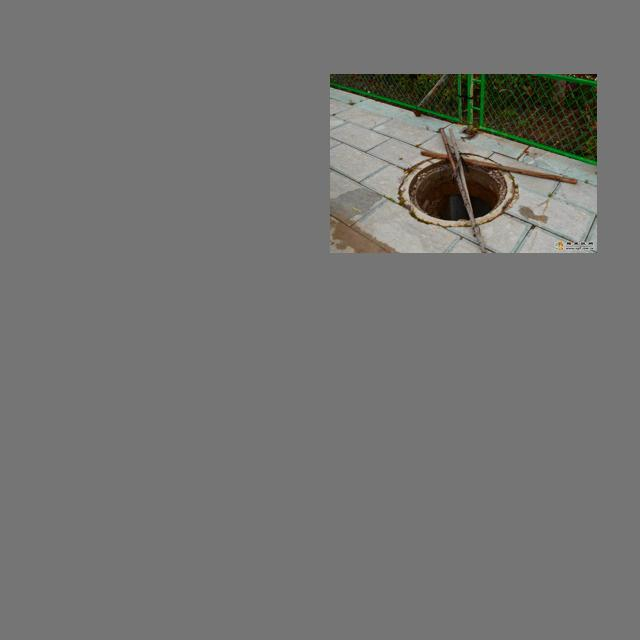lose: (402, 149, 518, 224)
